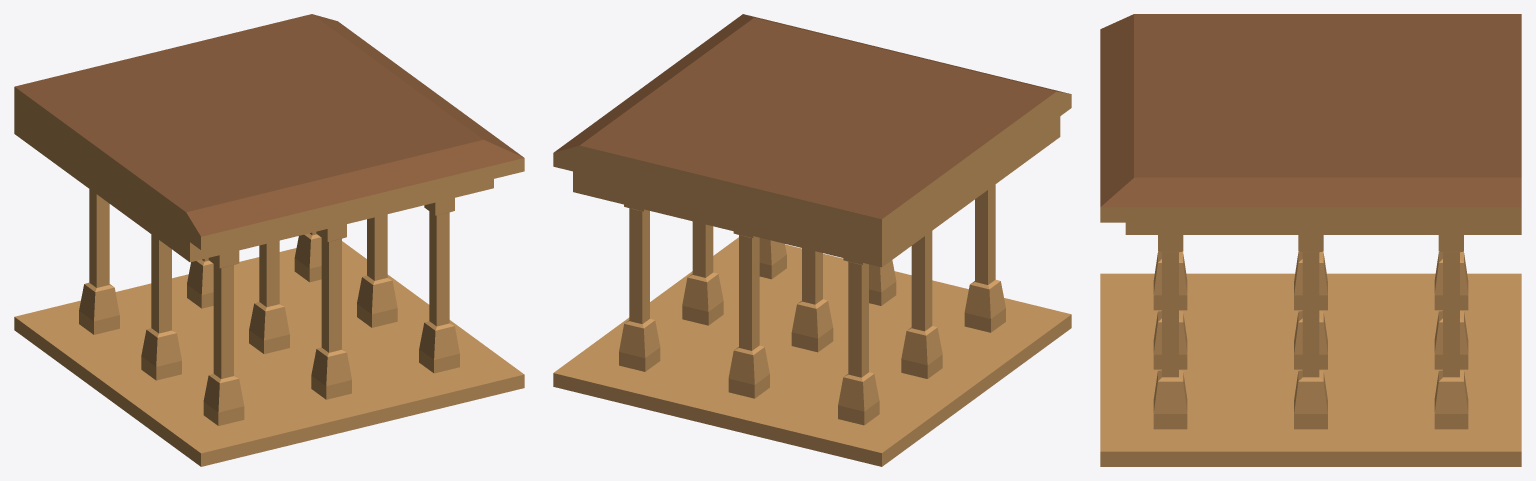
Rendered from india_hindu-pillars-edge.fbx.
3 renders of one model, left to right at view 1: azimuth 30°, elevation 25°; view 2: azimuth 150°, elevation 25°; view 3: azimuth 270°, elevation 25°, orthographic. The views are drawn at different scales.
Parts seen in each view (by area): view 1: india_hindu_pillars_edge; view 2: india_hindu_pillars_edge; view 3: india_hindu_pillars_edge.
Boxes of the visible parts, <box> form: india_hindu_pillars_edge: <box>14,14,524,466</box>; india_hindu_pillars_edge: <box>553,14,1071,466</box>; india_hindu_pillars_edge: <box>1100,14,1521,466</box>.
Size of the model in its own units: 200 by 144 by 200.
